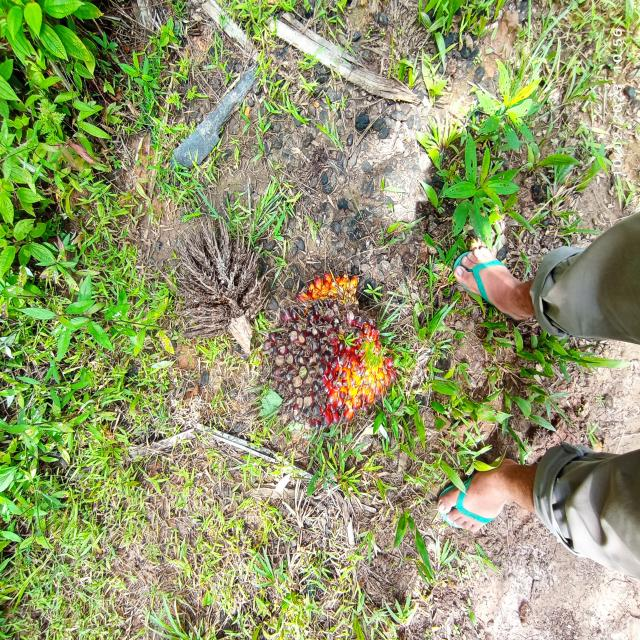fraksi 00: (238, 259, 403, 452)
